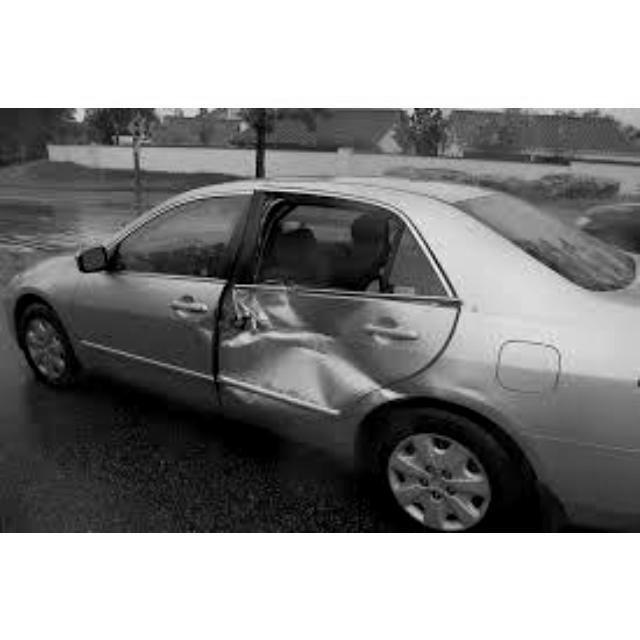doorouter-dent: (243, 275, 412, 423)
